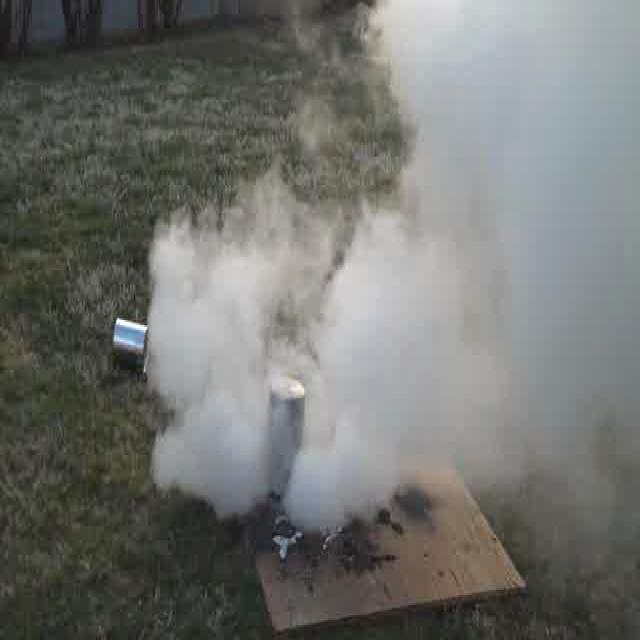Smoke: (152, 204, 632, 493)
